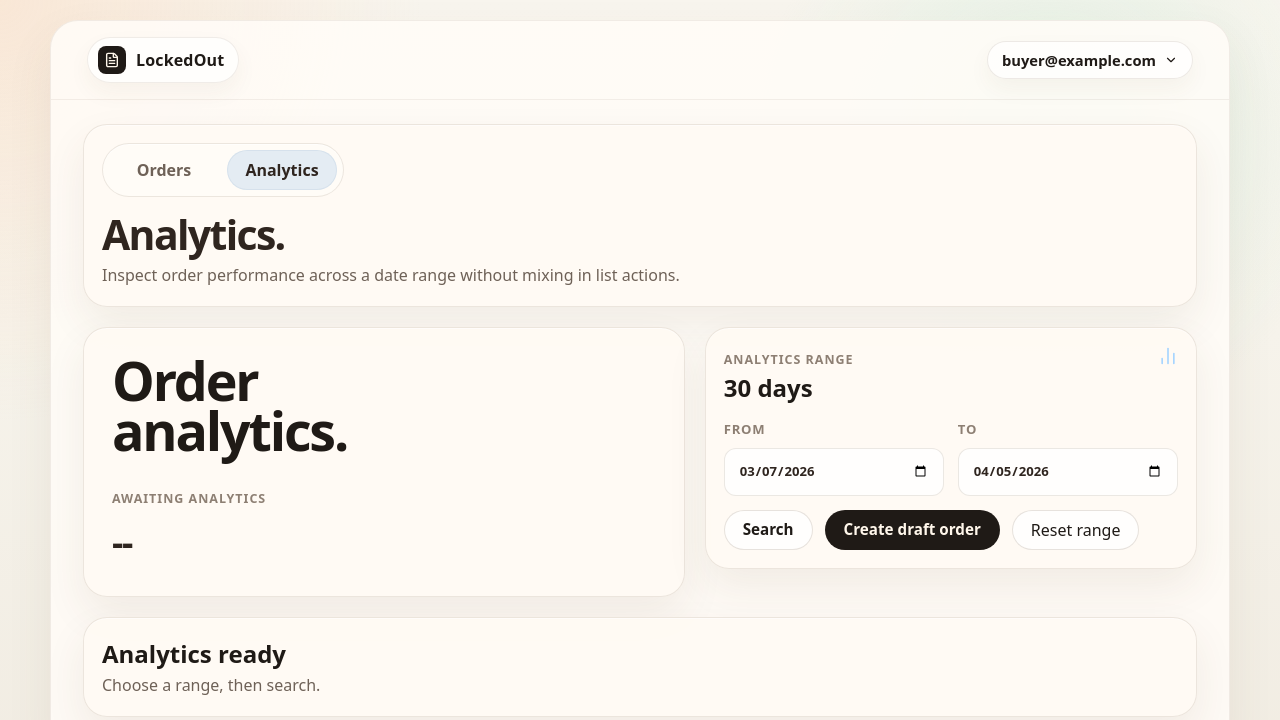
it: Orders analytics page › renders combined buyer and seller analytics
Click the button "Search" at [768, 530], box [724,510,813,550]
(page scrolled)
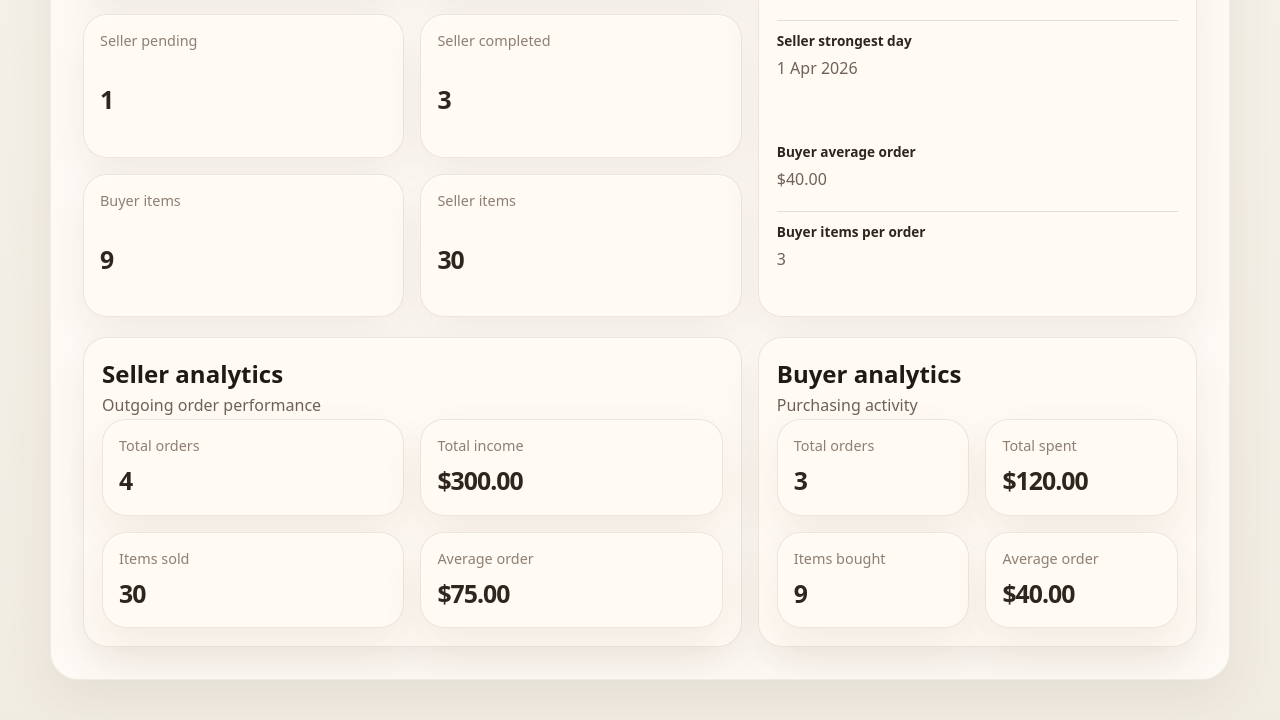
Check: the heading "Seller analytics" is shown, box [102,357,283,390]
Check: the heading "Buyer analytics" is shown, box [777,356,961,392]
